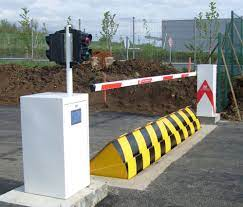obstacle: (18, 85, 104, 207), (100, 103, 200, 182), (196, 61, 220, 131)
